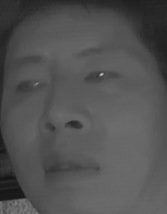eye: (83, 66, 123, 91), (15, 74, 49, 96)
mouth: (36, 148, 102, 190)
